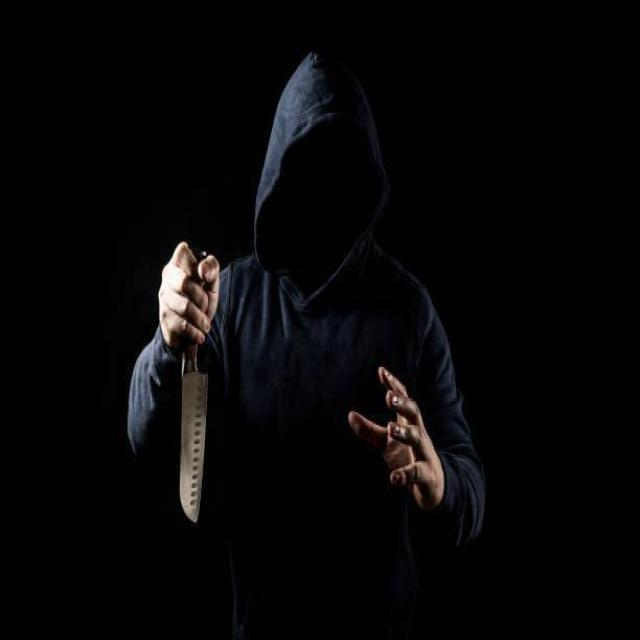faca: (150, 214, 222, 536)
